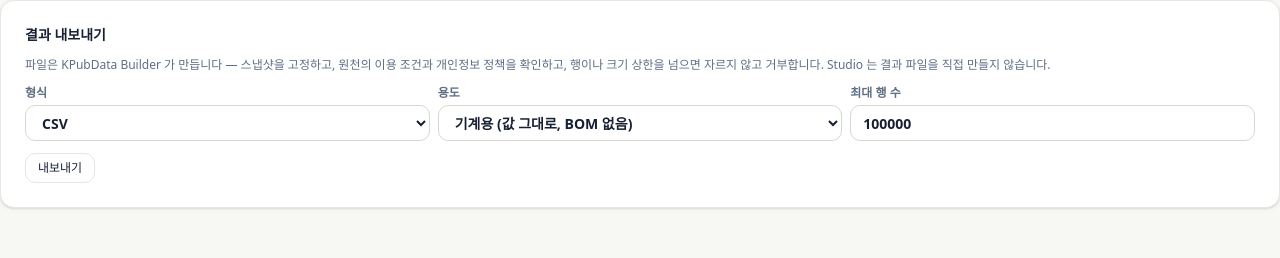
Scenario: the export panel asks Builder and shows its manifest (#501) › a refusal is not shown as success: {"code":"export_blocked_pii","message":"pii","findings":[{"column":"phone","kind":"phone","count":3}]}
Click the button "내보내기" at (60, 168), box [25,153,95,183]
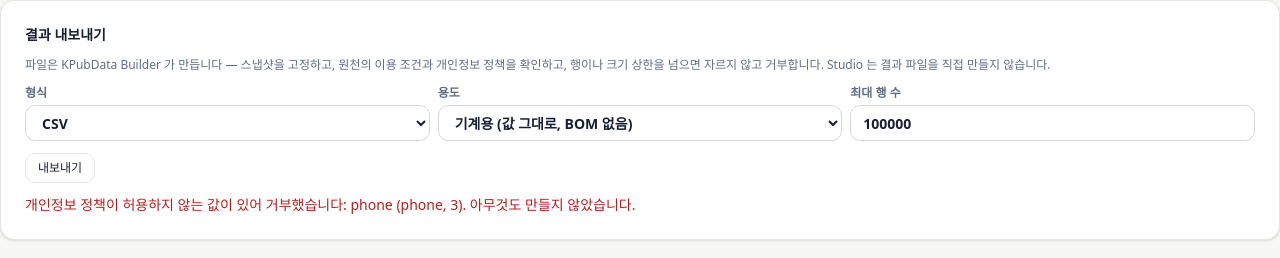
Now the message shows "phone (phone, 3)", box [25,195,636,214]
